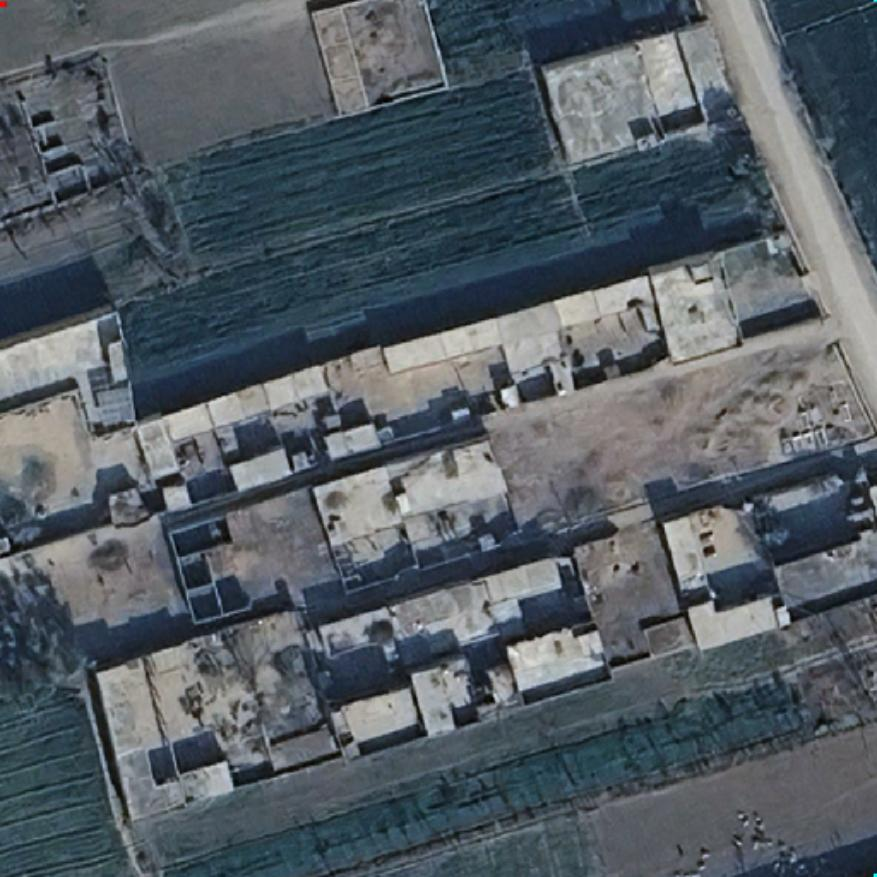Solarpanel: (92, 384, 136, 426)
